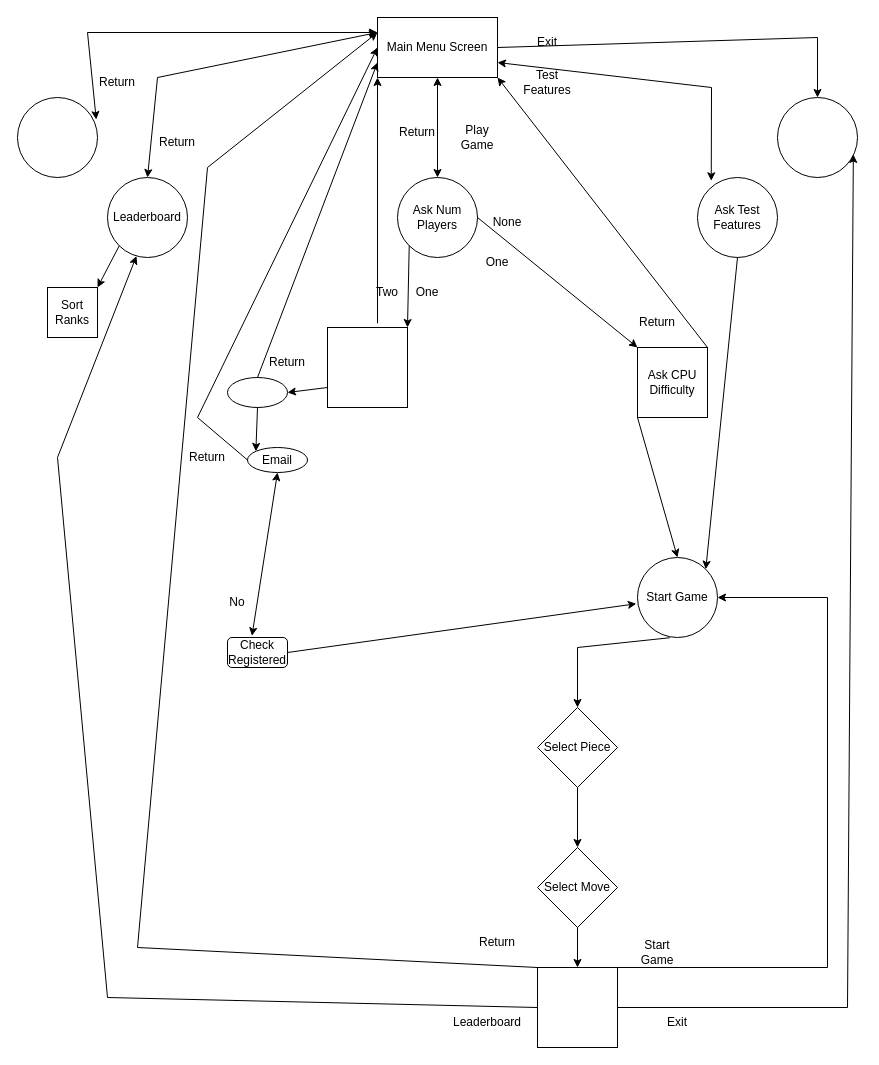
This 879x1065 diagram has some shape labels left out. The centre of each missing label's shape, as x and y in pixels:
"After Game Selection" goes at pixel 577 1007.
"Ask Registered" goes at pixel 367 367.
"Exit Game" goes at pixel 817 137.
"Name" goes at pixel 257 392.
"View Game Rules" goes at pixel 57 137.
